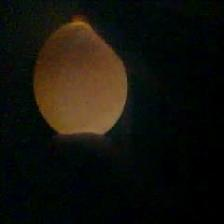infertile: (31, 18, 130, 140)
